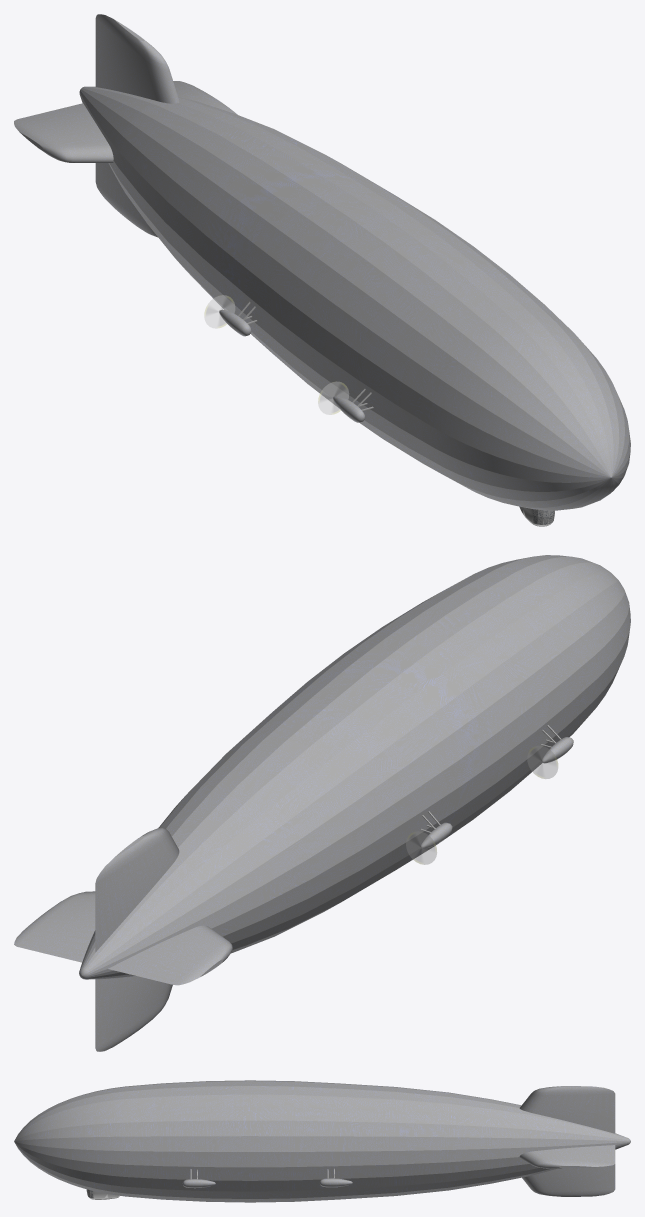
Rendered from Blimp.fbx.
3 renders of one model, top to bottom at view 1: azimuth 30°, elevation 25°; view 2: azimuth 150°, elevation 25°; view 3: azimuth 270°, elevation 25°, orthographic. The views are drawn at different scales.
Visible parts, largest first — view 1: Group1, Group2, Group5, Group4; view 2: Group1, Group2, Group5, Group4, Group3, Group8, Group13; view 3: Group1, Group2, Group4, Group3, Group16, Group18, Group6.
Part boxes in pixels (x1,y1,x2,y2): Group1: (79,86,630,510); Group2: (95,14,179,103); Group5: (14,103,113,162); Group4: (95,163,157,237); Group1: (79,555,630,979); Group2: (95,828,179,952); Group5: (108,925,232,985); Group4: (95,976,172,1051); Group3: (14,891,95,962); Group8: (406,831,436,864); Group13: (527,746,557,778); Group1: (14,1080,630,1202); Group2: (519,1086,615,1133); Group4: (522,1164,615,1196); Group3: (519,1145,615,1168); Group16: (320,1178,352,1187); Group18: (182,1179,215,1188); Group6: (86,1189,119,1199).
Size of the model in its own units: 786 by 603 by 2995.
